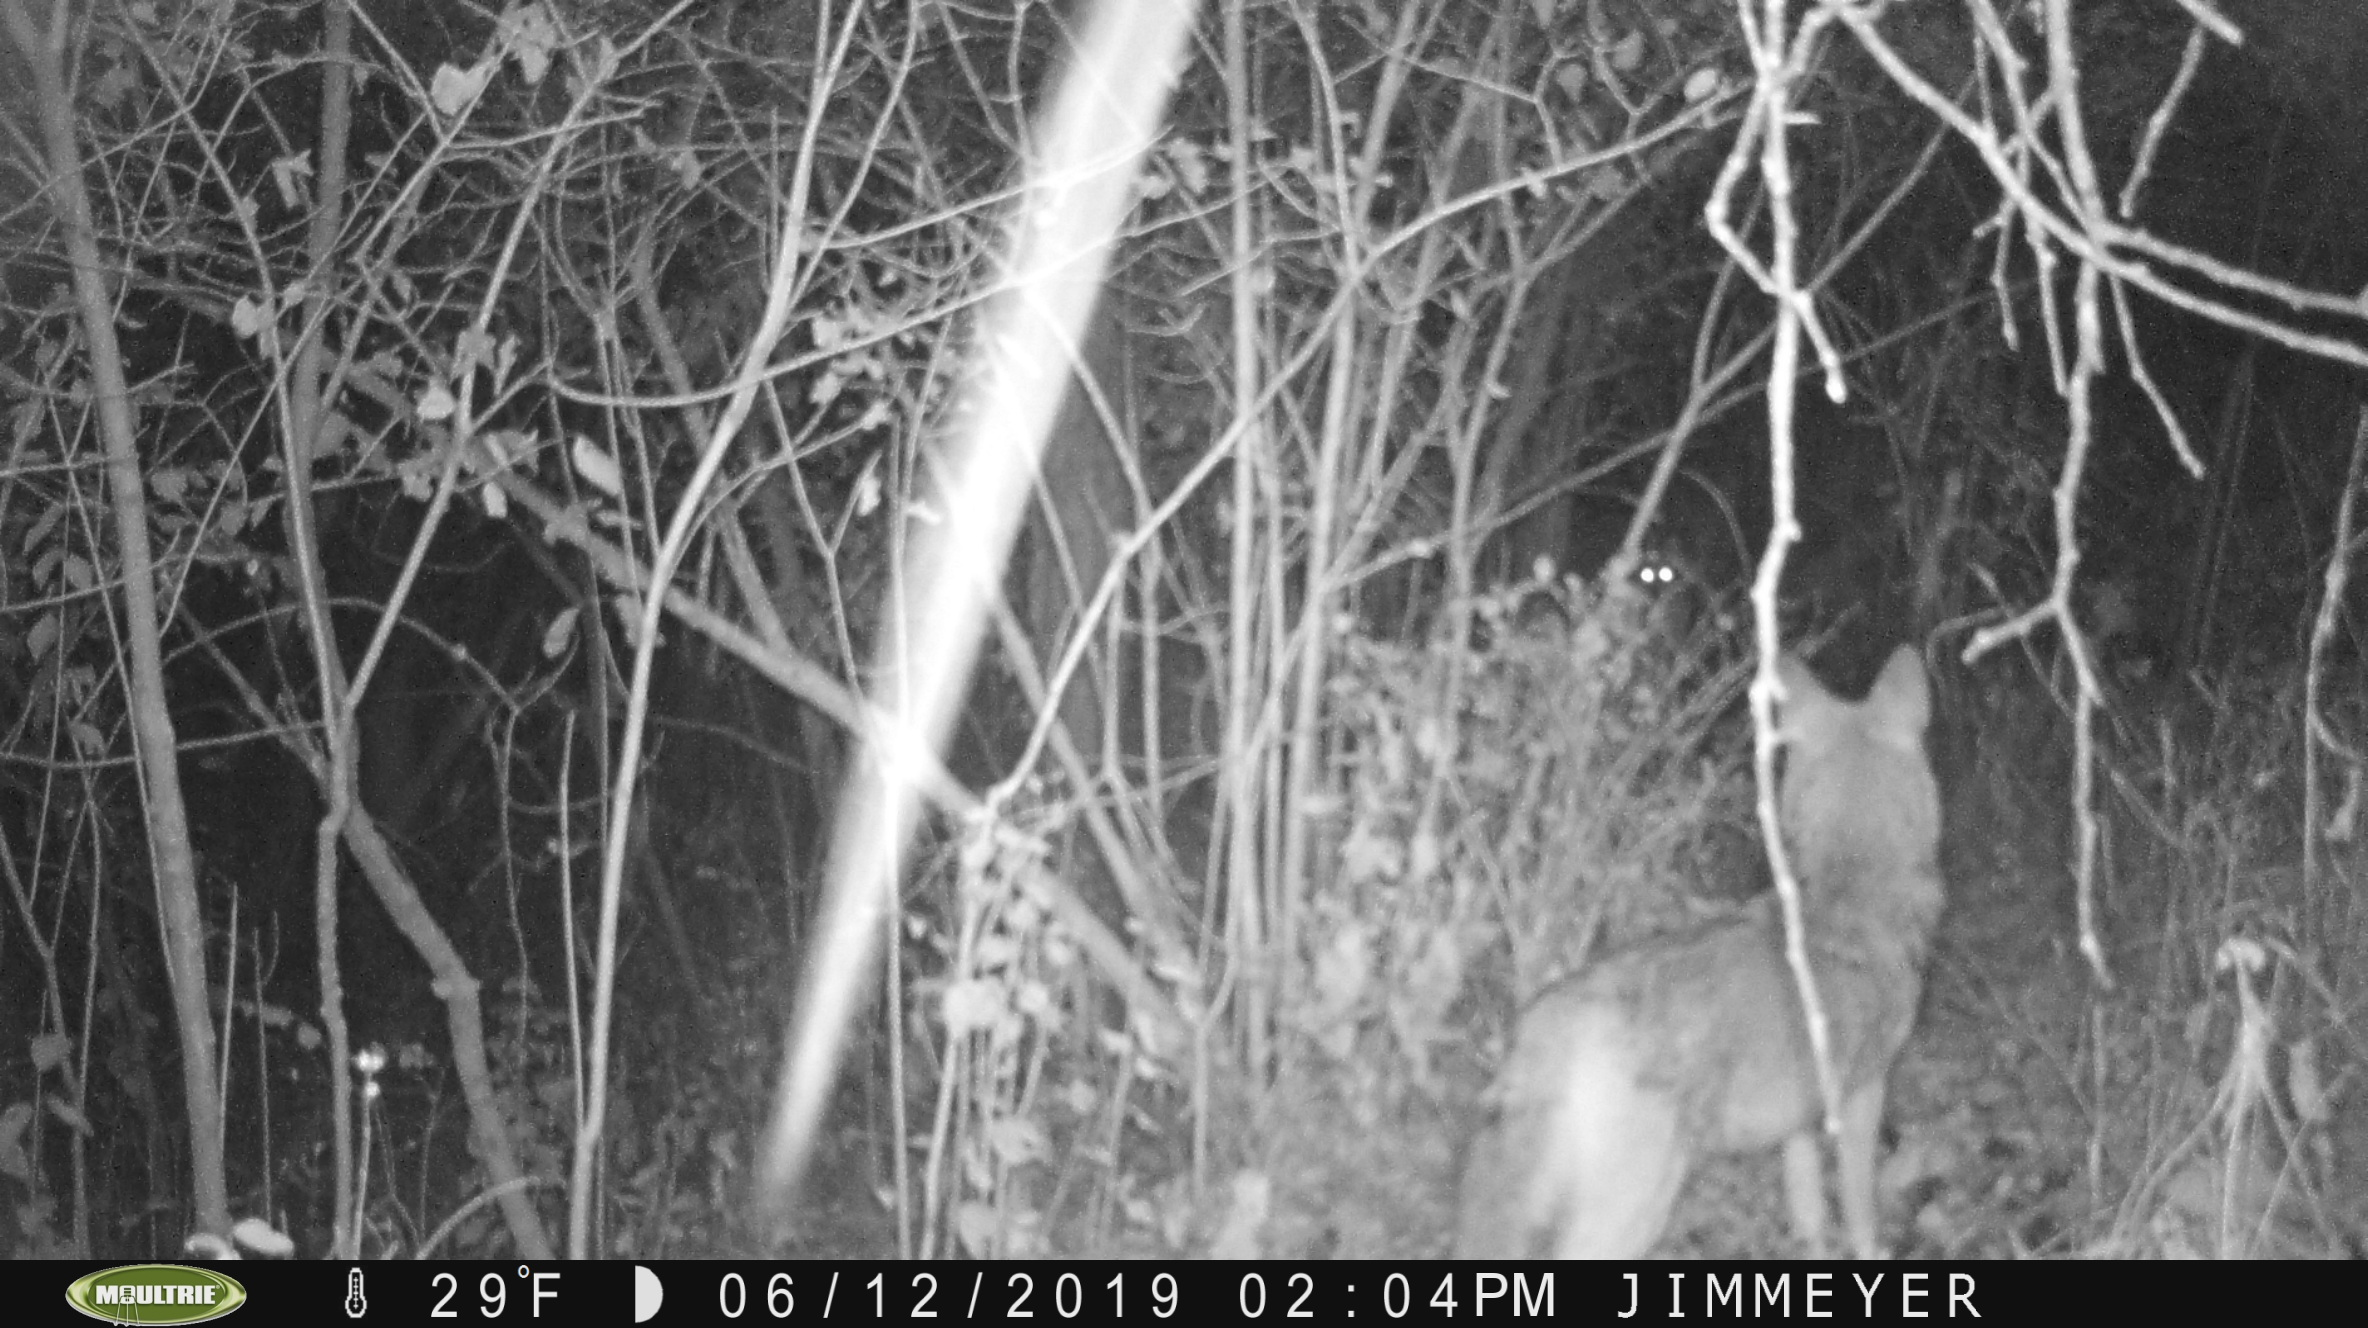Coyote: (1451, 639, 1947, 1260)
